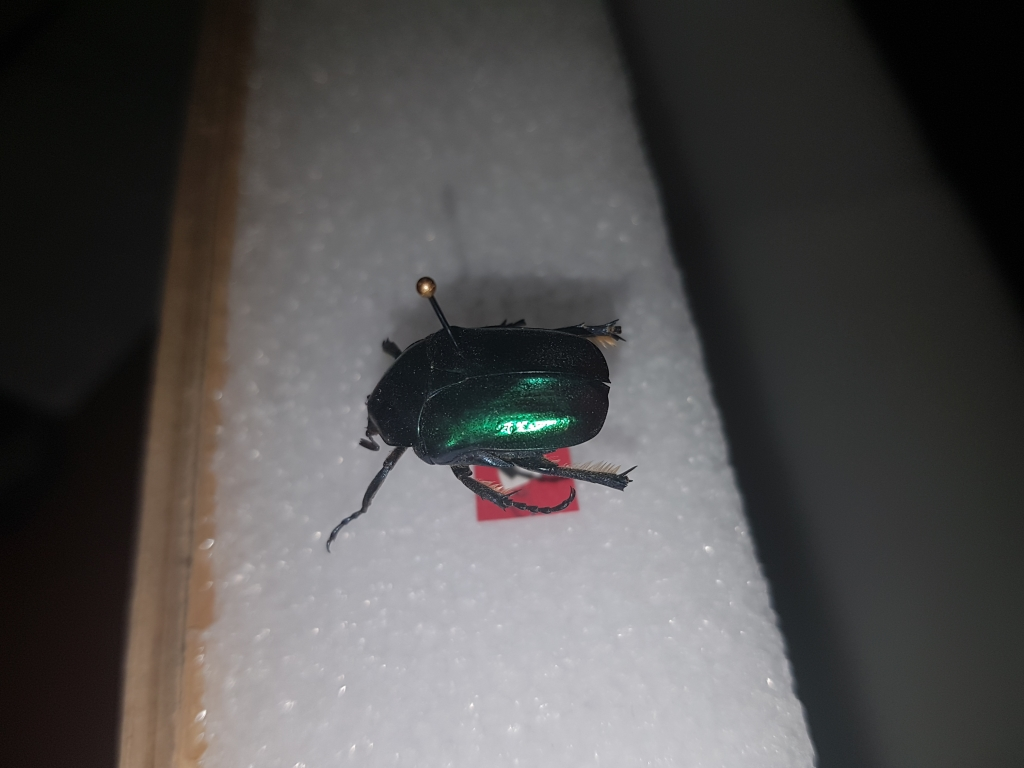Protaetia_besucheti: (318, 311, 643, 558)
